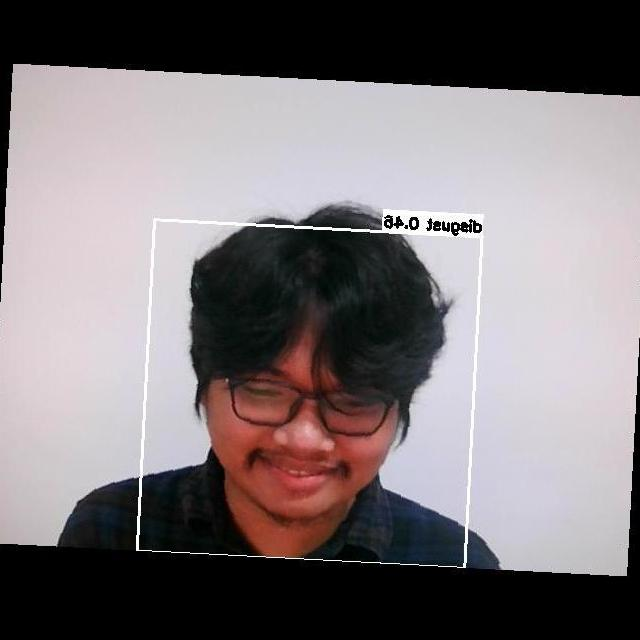Happy: (195, 324, 403, 500)
